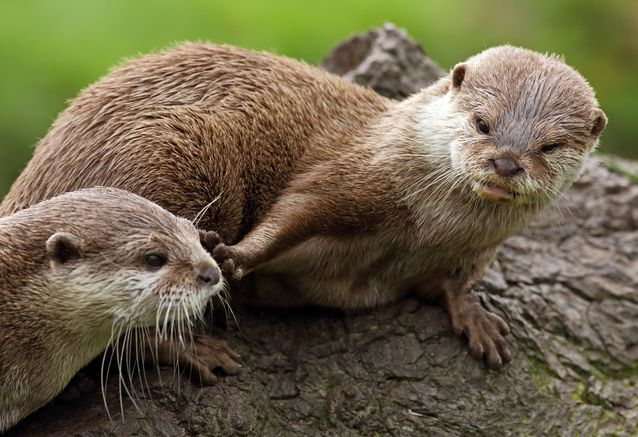otter: (267, 27, 619, 401), (3, 171, 239, 437)
